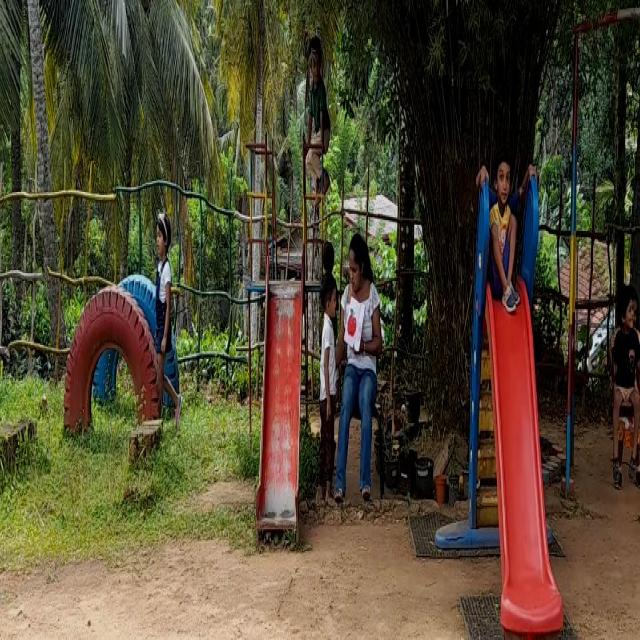adult: (340, 207, 383, 499)
child: (144, 189, 185, 414), (612, 257, 640, 485), (302, 30, 338, 203), (316, 270, 338, 518), (490, 141, 519, 305)
